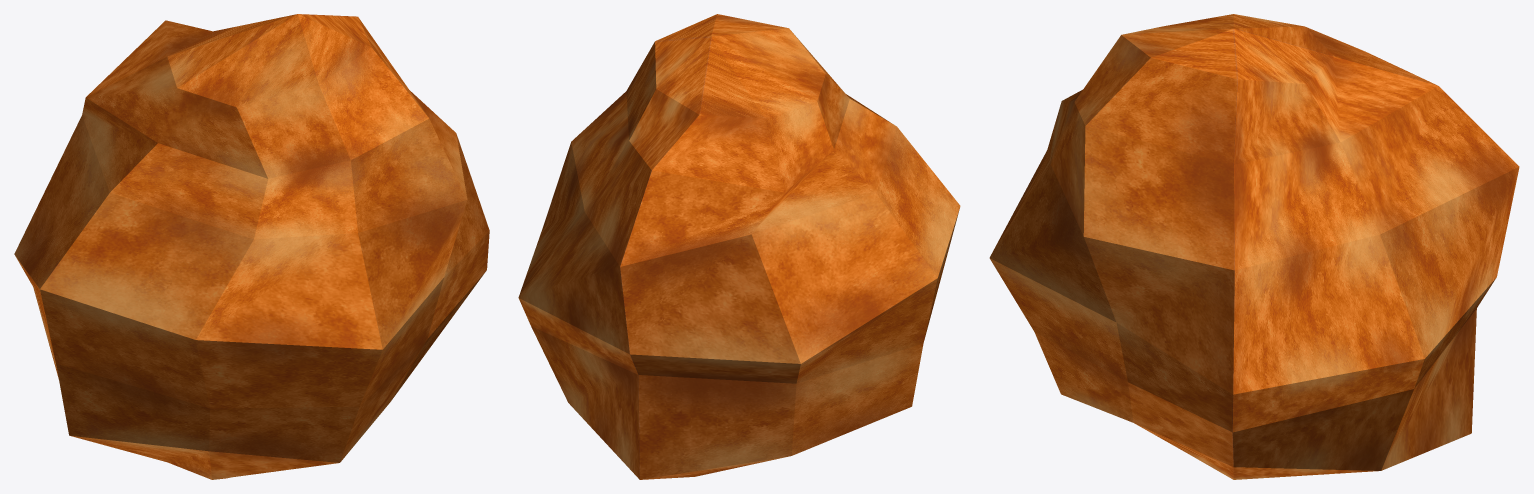
Rendered from karaage.fbx.
3 renders of one model, left to right at view 1: azimuth 30°, elevation 25°; view 2: azimuth 150°, elevation 25°; view 3: azimuth 270°, elevation 25°, orthographic. The views are drawn at different scales.
Parts seen in each view (by area): view 1: pSphere1; view 2: pSphere1; view 3: pSphere1.
Part boxes in pixels (box(x1,y1,x2,y2)): pSphere1: box(14, 14, 489, 479); pSphere1: box(518, 14, 960, 479); pSphere1: box(989, 14, 1519, 479).
Bounding box in the file's own units: 0.4566 × 0.4381 × 0.4546.
Materials: 1 (1 with a texture image).
